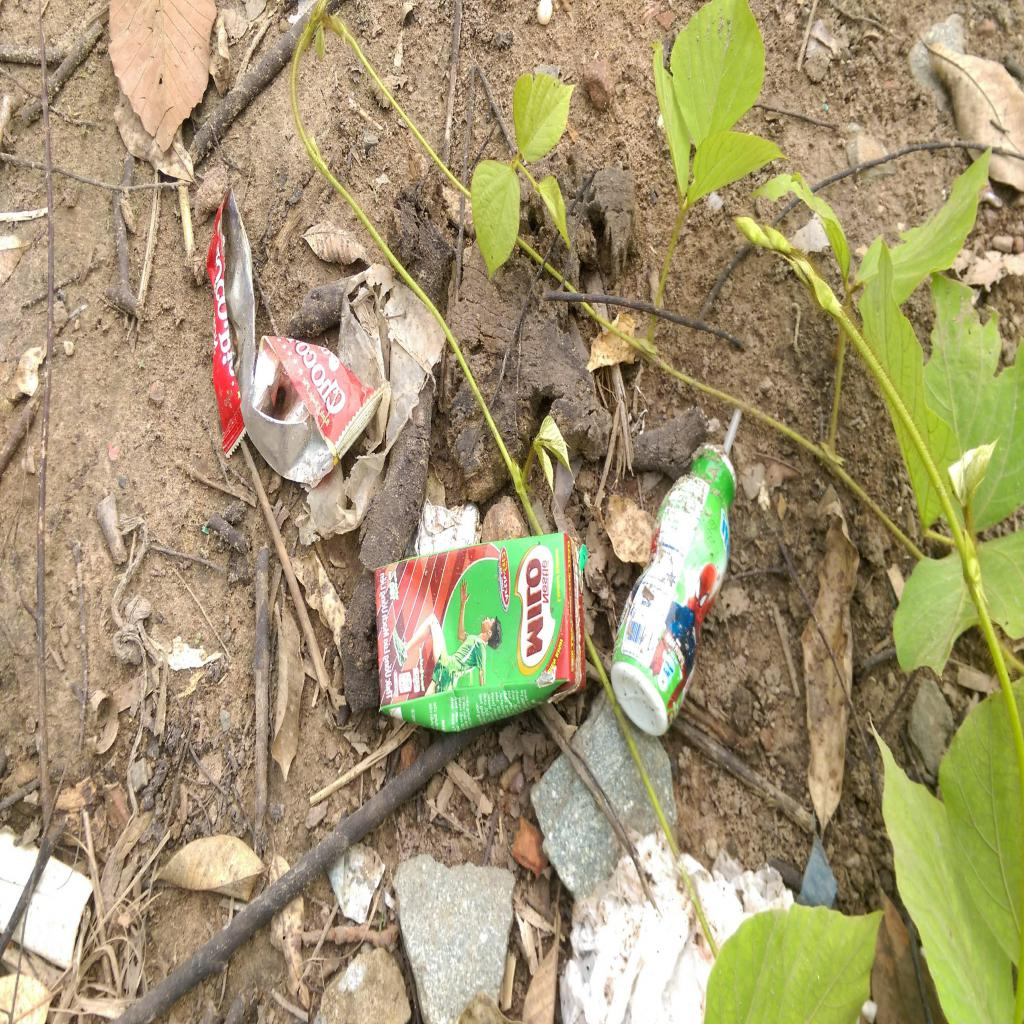Drink carton: (375, 533, 588, 731)
Other plastic: (206, 187, 383, 487)
Other plastic container: (612, 448, 736, 736)
Plastic straw: (723, 410, 741, 454)
Unlabeled litter: (556, 827, 794, 1023), (294, 264, 446, 546), (412, 497, 482, 555)
